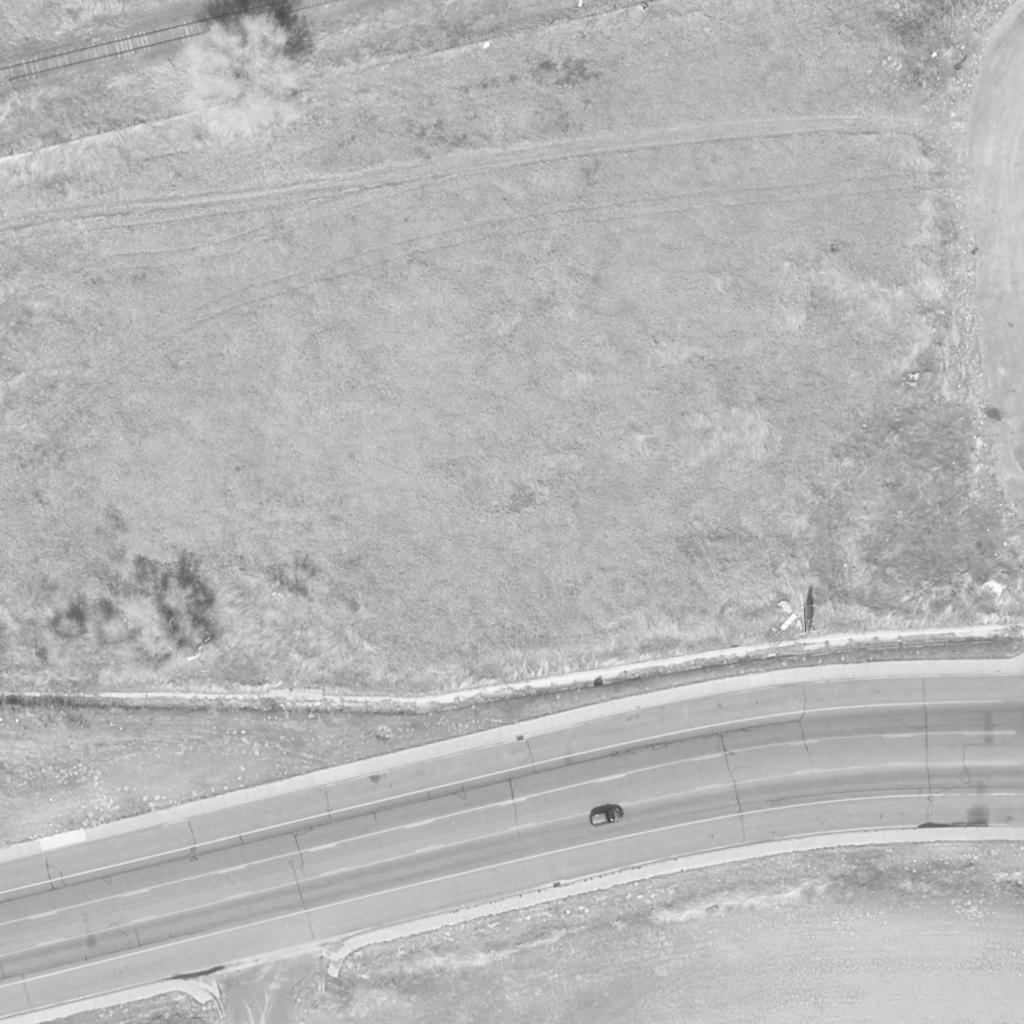vehicle: (589, 807, 625, 827)
